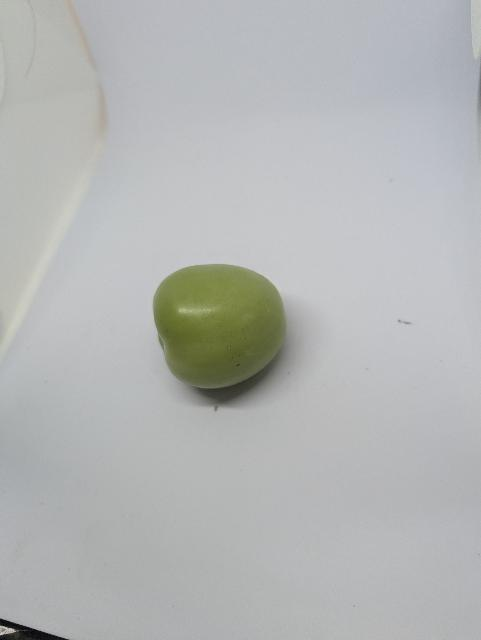green: (143, 256, 294, 398)
